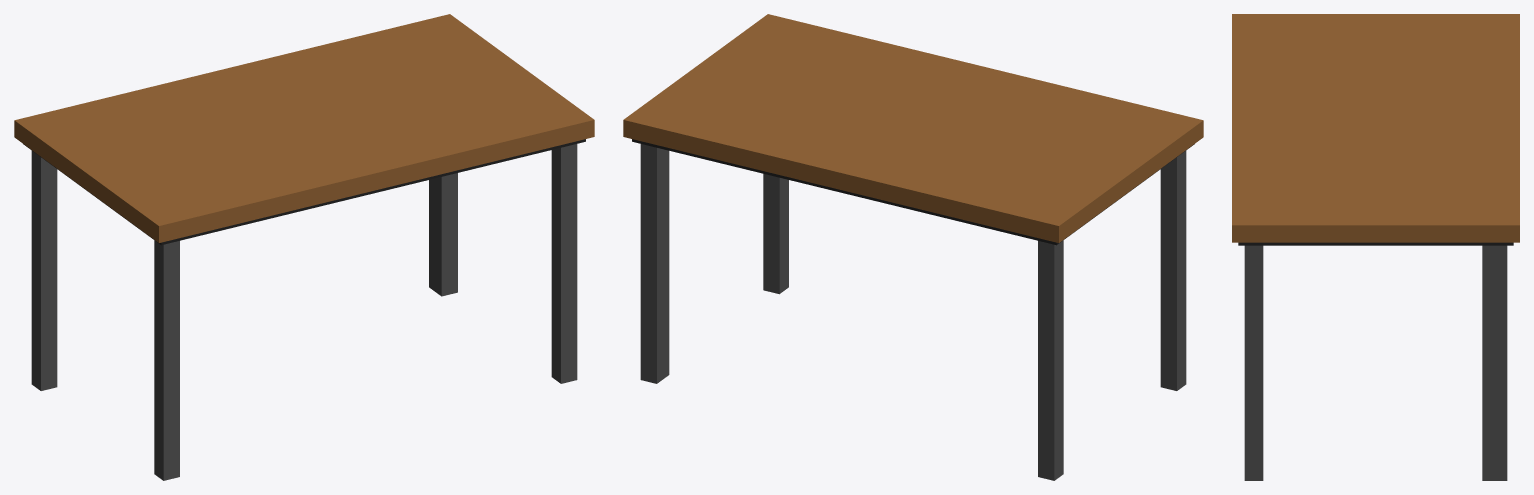
The model's file is table.gltf.
The picture shows the model from 3 angles, left to right: view 1: azimuth 30°, elevation 25°; view 2: azimuth 150°, elevation 25°; view 3: azimuth 270°, elevation 25°; orthographic projection.
Visible parts, largest first — view 1: table; view 2: table; view 3: table.
Boxes of the visible parts, x1,y1,x2,y2 form: table: [14, 14, 594, 480]; table: [623, 14, 1203, 480]; table: [1232, 14, 1519, 480].
Bounding box in the file's own units: 8 × 4.6 × 4.6.
Materials: 1 (1 with a texture image).
